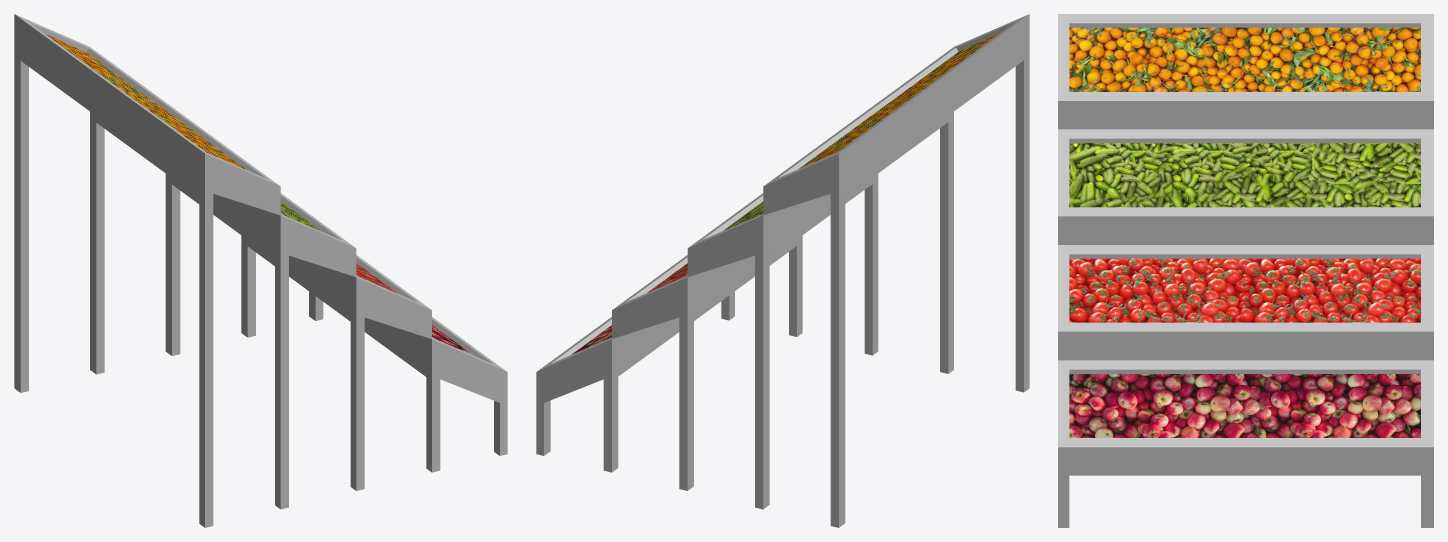
Rendered from Vegetable_Rack.fbx.
3 renders of one model, left to right at view 1: azimuth 30°, elevation 25°; view 2: azimuth 150°, elevation 25°; view 3: azimuth 270°, elevation 25°, orthographic.
Parts seen in each view (by area): view 1: Vegetable_Rack; view 2: Vegetable_Rack; view 3: Vegetable_Rack.
Boxes of the visible parts, bbox=[...] form: Vegetable_Rack: bbox=[14, 14, 507, 527]; Vegetable_Rack: bbox=[536, 14, 1029, 527]; Vegetable_Rack: bbox=[1058, 14, 1433, 527].
Bounding box in the file's own units: 1192 × 1410 × 1302.
